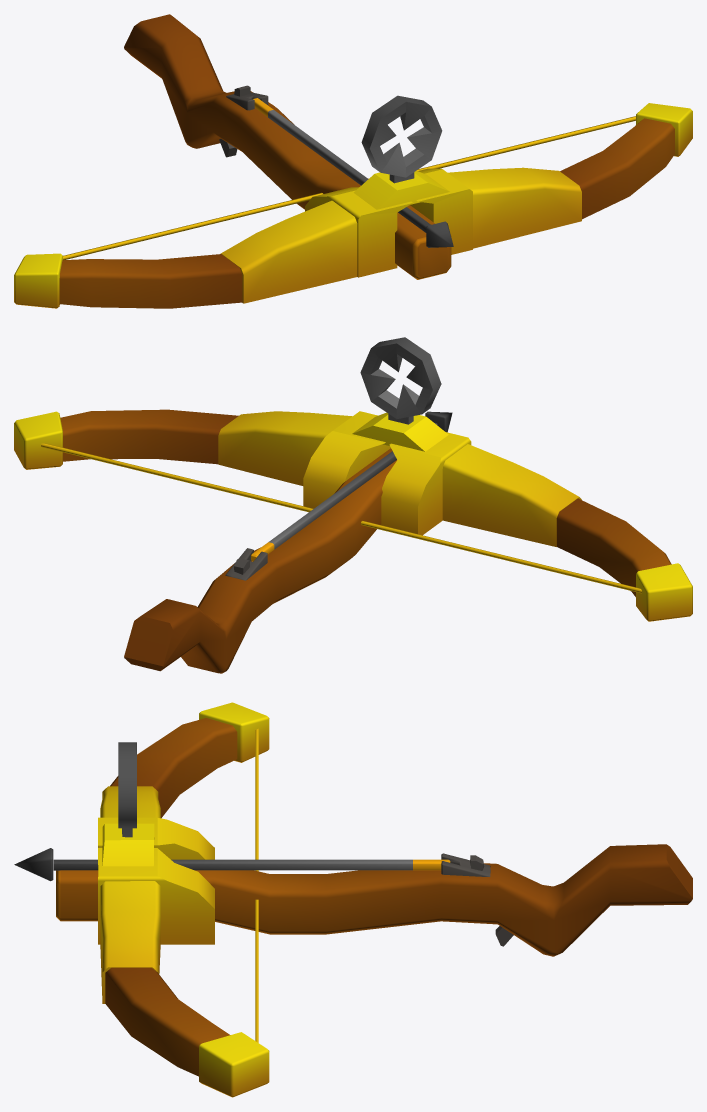
Rendered from NuJian_skin.fbx.
3 renders of one model, top to bottom at view 1: azimuth 30°, elevation 25°; view 2: azimuth 150°, elevation 25°; view 3: azimuth 270°, elevation 25°, orthographic. The views are drawn at different scales.
Parts seen in each view (by area): view 1: A1, A2, A3; view 2: A1, A2, A3; view 3: A1, A3, A2.
Boxes of the visible parts, box(x1,y1,x2,y2) form: A1: box(14, 14, 692, 308); A2: box(63, 116, 635, 260); A3: box(253, 98, 453, 247); A1: box(14, 337, 692, 673); A2: box(41, 443, 641, 593); A3: box(251, 411, 452, 561); A1: box(56, 702, 692, 1097); A3: box(14, 848, 450, 881); A2: box(255, 728, 258, 1042).
Bounding box in the file's own units: 50 × 13.24 × 39.63.
8 materials, 8 textured.
